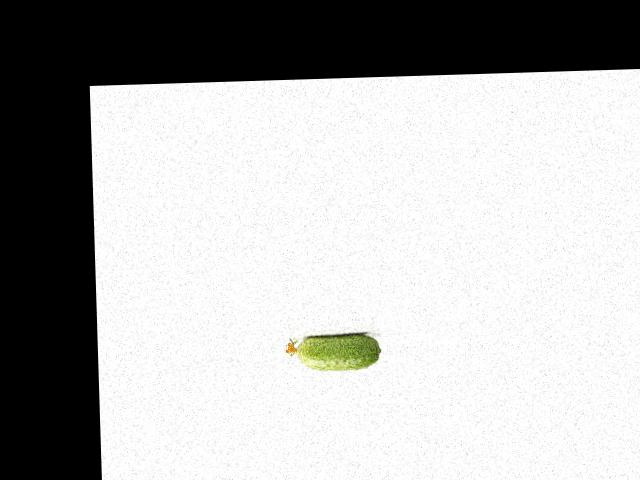cucumber: (285, 332, 382, 372)
